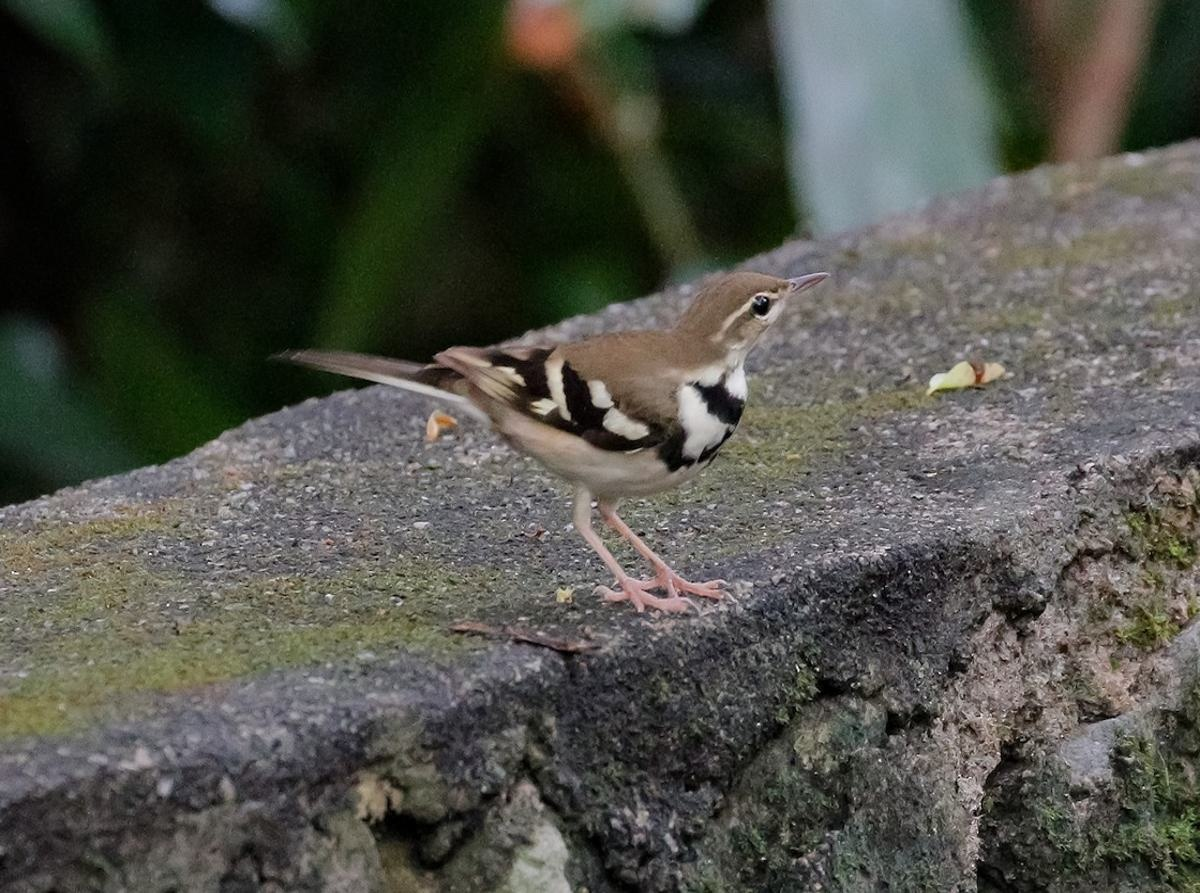wagtail: (266, 250, 844, 649)
